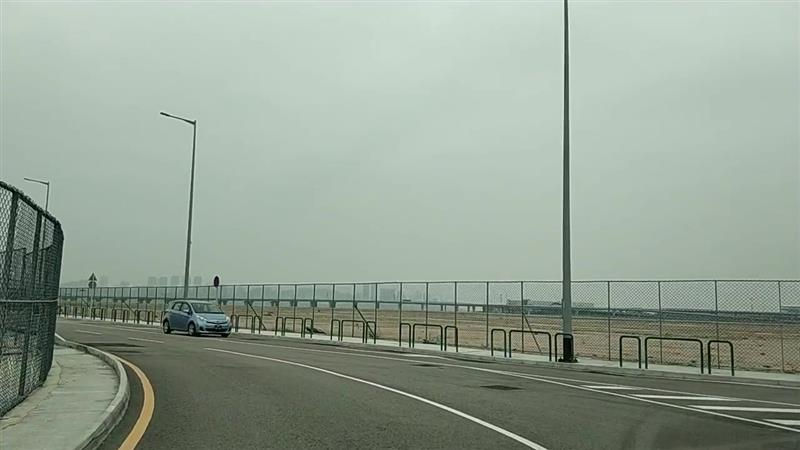car: (160, 300, 232, 338)
